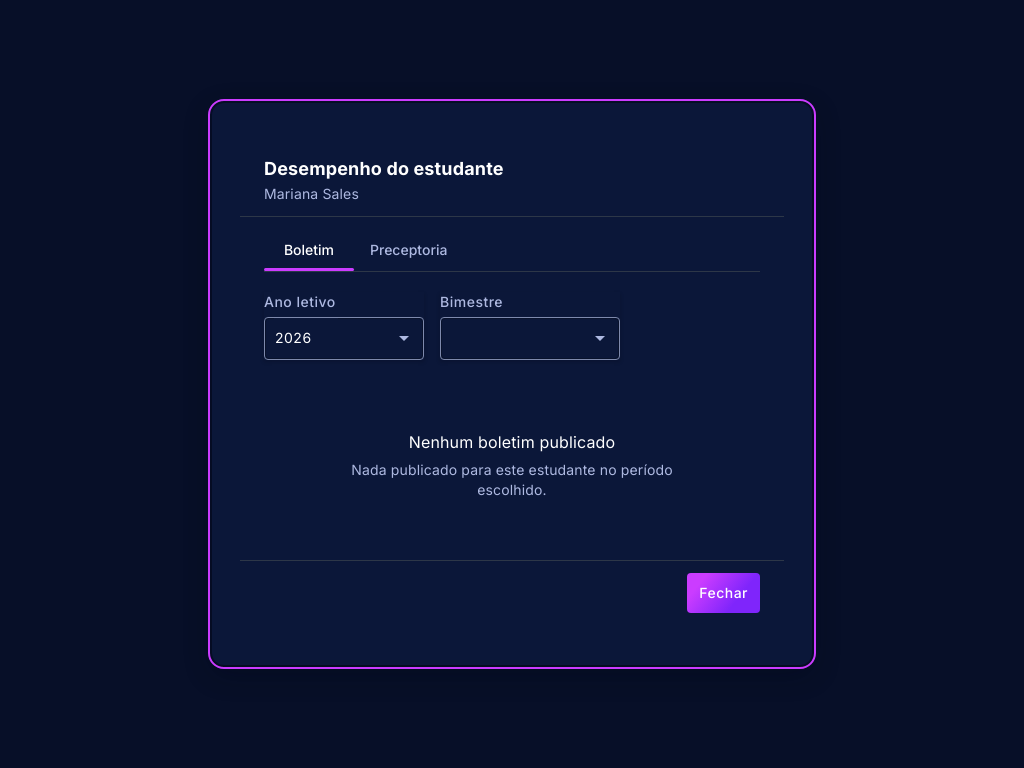
Scenario: StudentAcademicDialog, the preceptorship tab › says plainly when no teacher has published anything
Click the tab "Preceptoria".
click(409, 250)  # box [354,229,463,271]
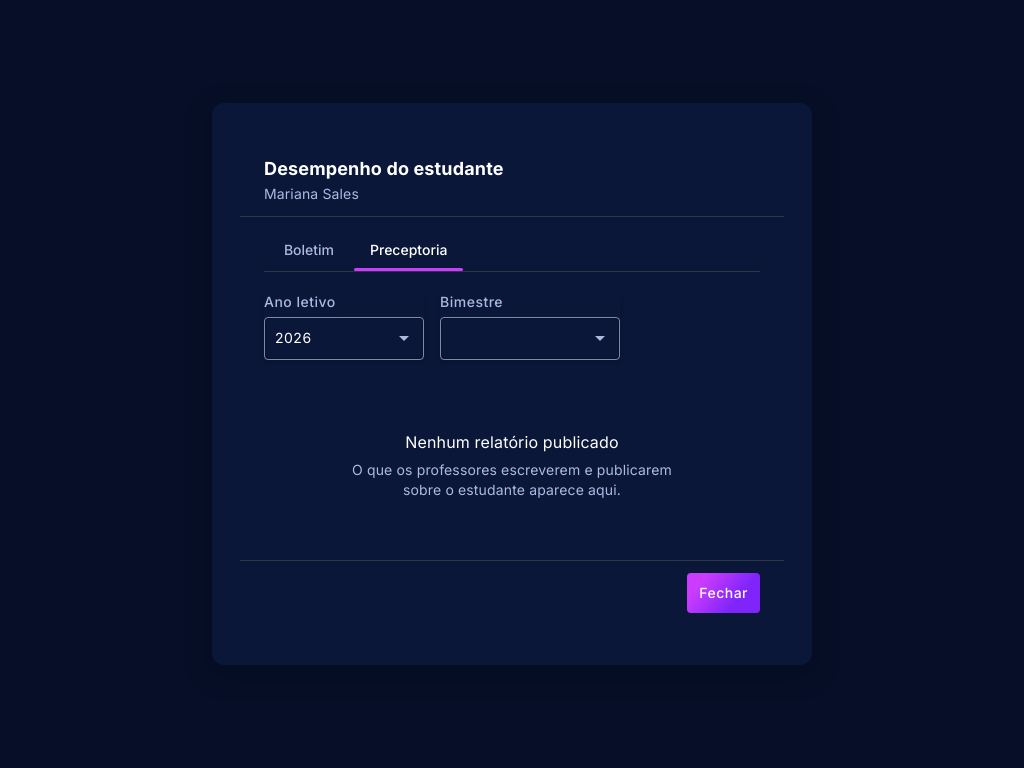
Result: the heading "Nenhum relatório publicado" is shown at [405,428,619,456]
